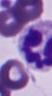N: (18, 23, 52, 72)
